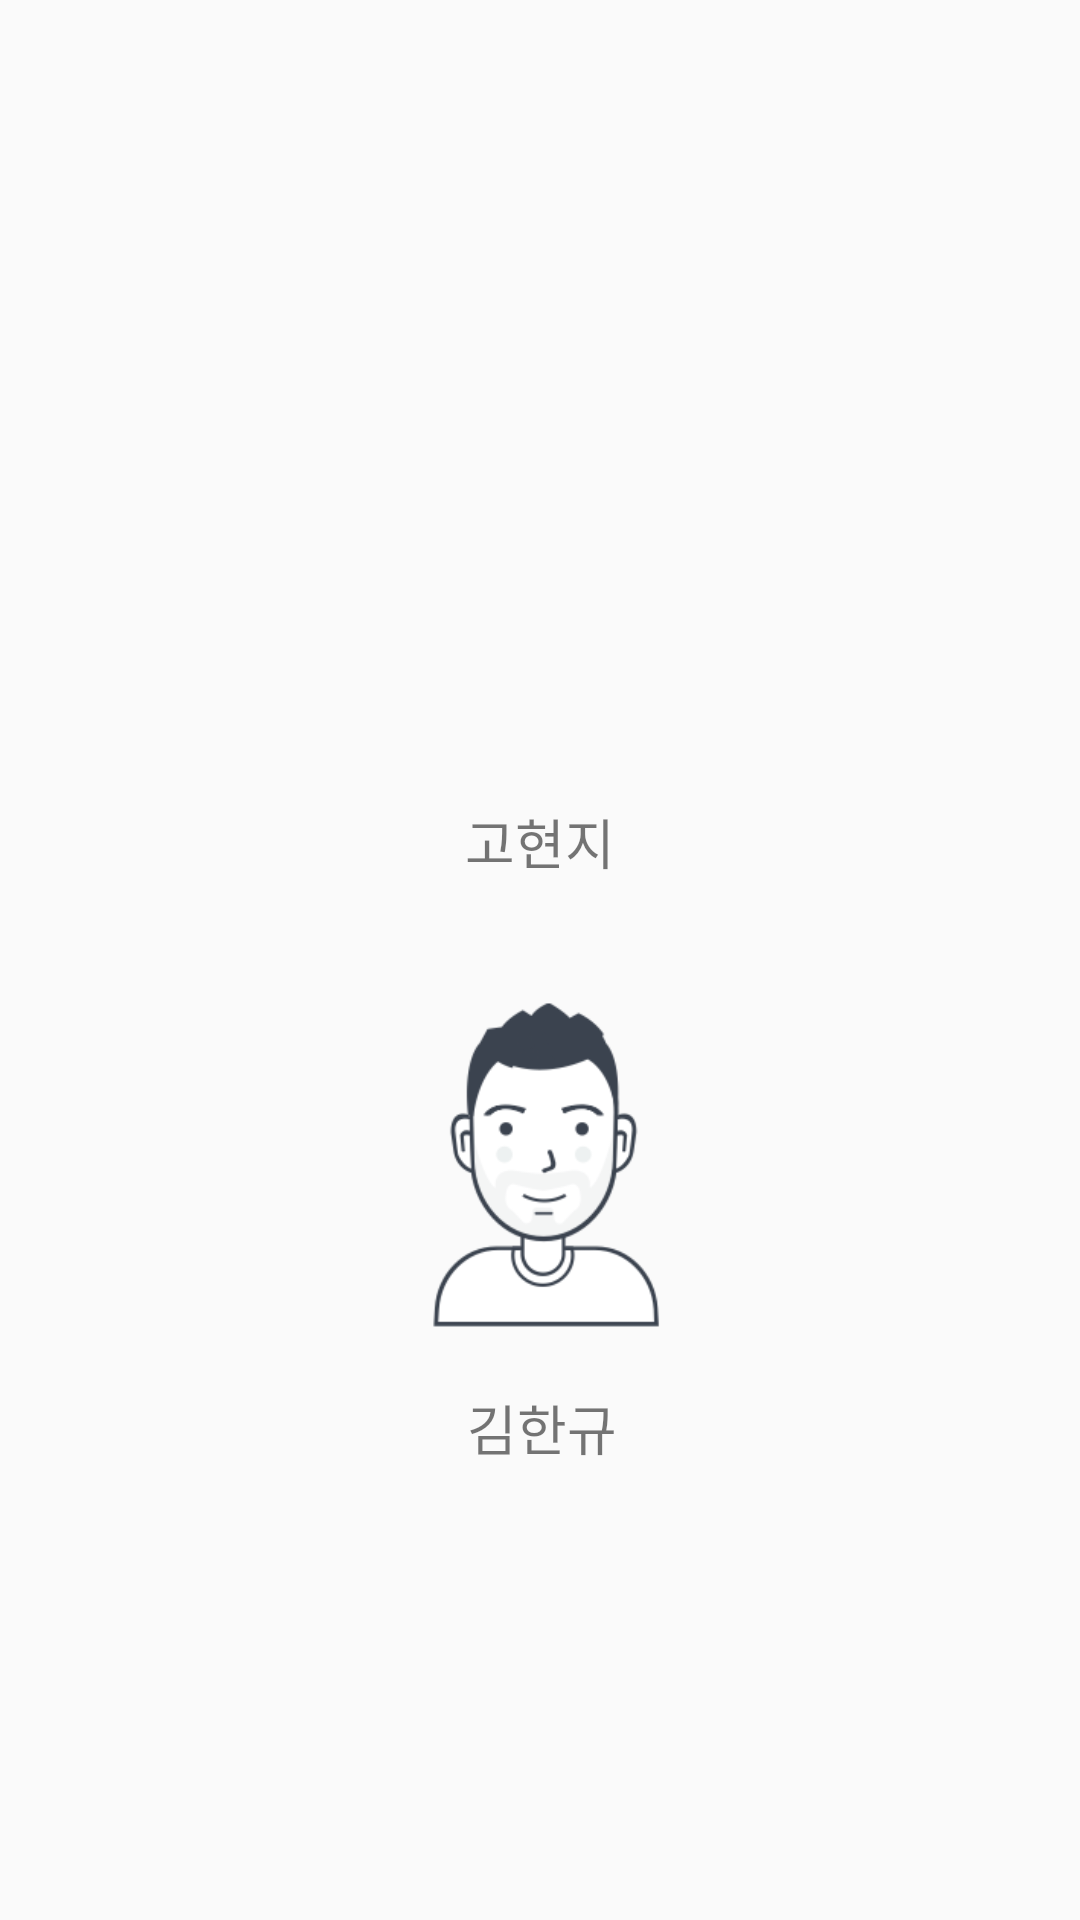

Icons on this 1080*1920 Android screen, each with its box as (x1, y1, x2, y2):
man: (433, 1003, 659, 1327)
